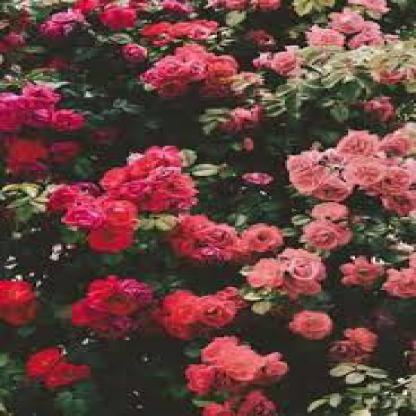Rose-Mawar: (1, 1, 415, 416)
